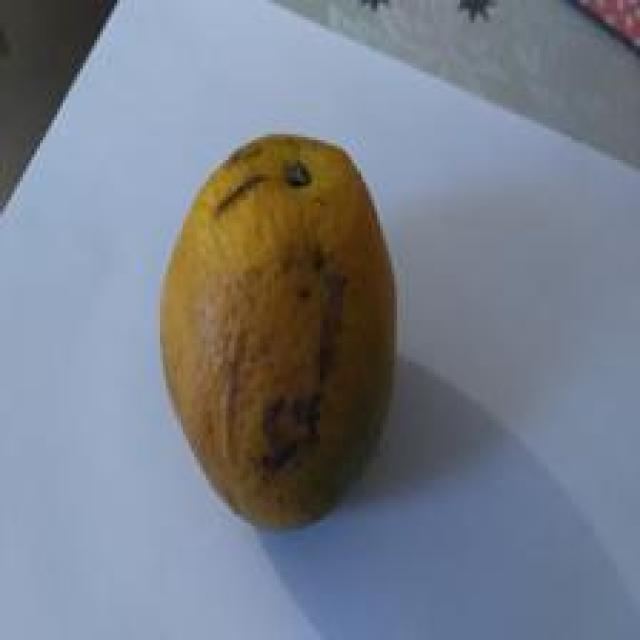overripe: (154, 132, 406, 536)
